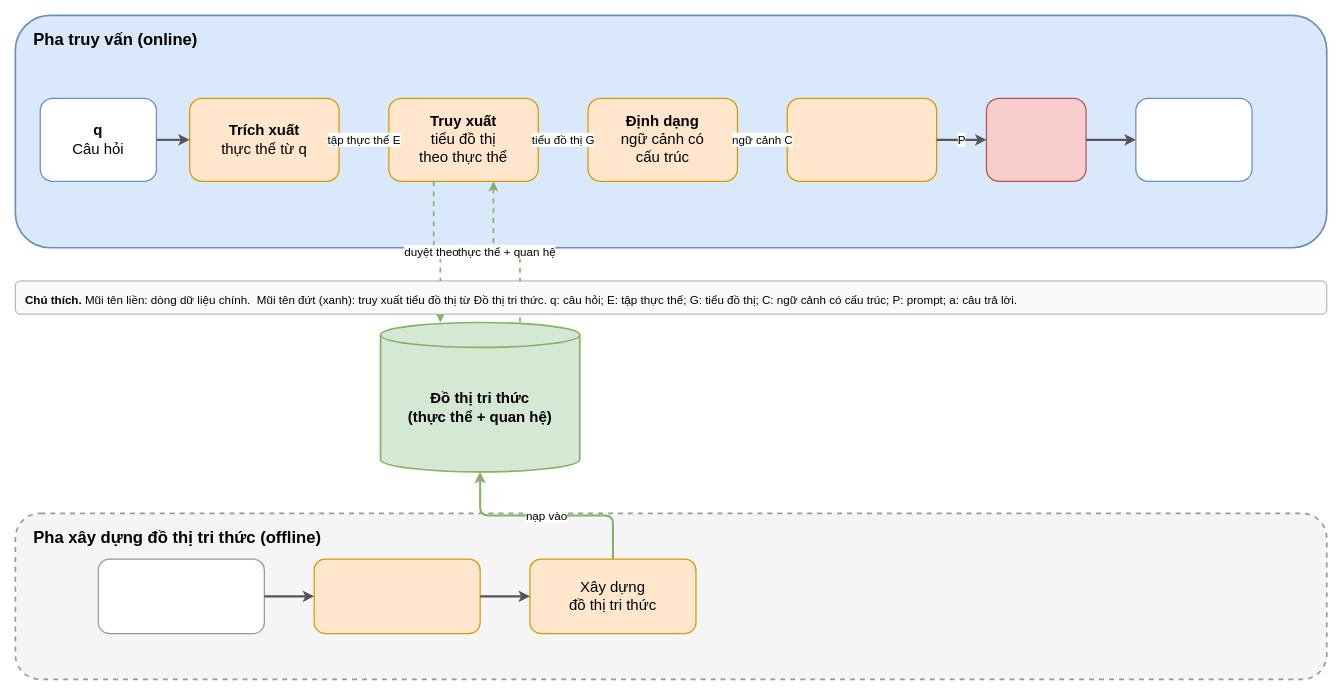
The diagram is 1341 pixels wide and 694 high, and some of its shapes have lost their labels. Here are the shapes that lost their labels. From the top down, the centre of each, then its label:
the point at 861,139: Lắp prompt (q + ngữ cảnh)
the point at 1035,139: LLM
the point at 1193,139: a Câu trả lời
the point at 181,596: Tài liệu / Ontology miền tri thức
the point at 396,596: Trích xuất thực thể & quan hệ
